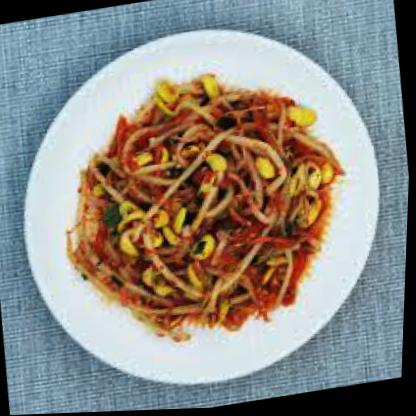seasoned bean sprouts: (54, 74, 353, 342)
